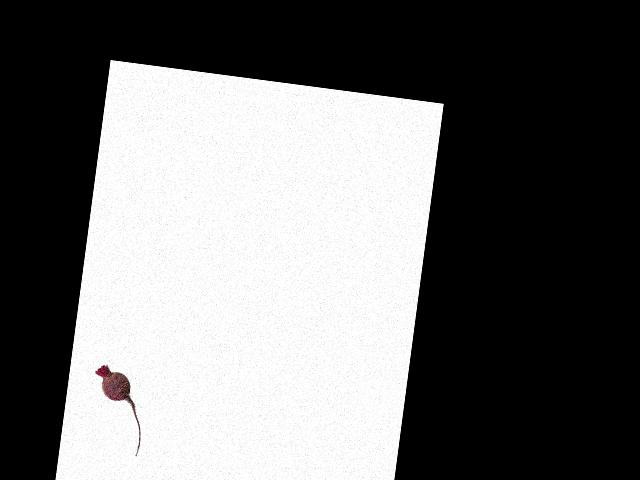beet: (85, 364, 149, 457)
